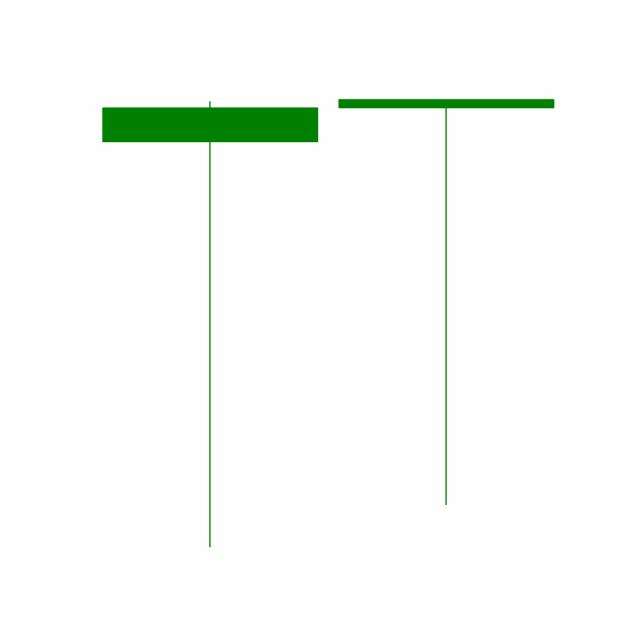Dragonfly Doji: (327, 95, 565, 509)
